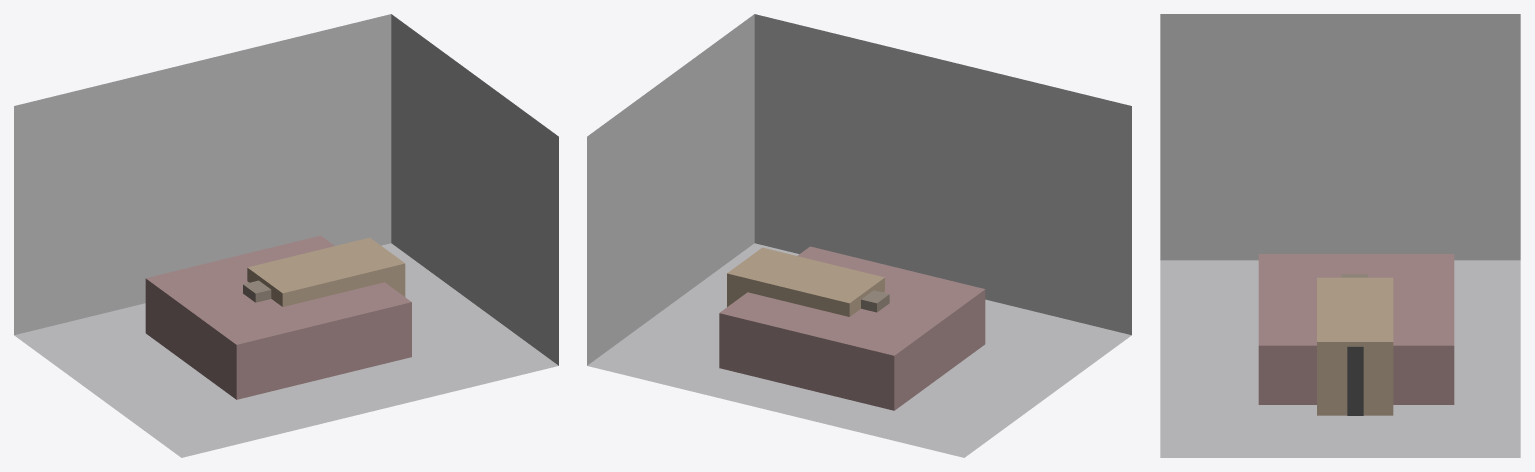
Rendered from current_layout.glb.
3 renders of one model, left to right at view 1: azimuth 30°, elevation 25°; view 2: azimuth 150°, elevation 25°; view 3: azimuth 270°, elevation 25°, orthographic. The views are drawn at different scales.
Visible parts, largest first — view 1: room, bed, desk; view 2: room, bed, desk; view 3: room, bed, desk, tv.
Boxes of the visible parts, <box> form: room: <box>14,14,558,457</box>; bed: <box>145,235,411,399</box>; desk: <box>247,237,405,306</box>; room: <box>587,14,1131,457</box>; bed: <box>719,246,985,410</box>; desk: <box>727,247,884,316</box>; room: <box>1160,14,1520,457</box>; bed: <box>1258,254,1454,404</box>; desk: <box>1317,277,1393,415</box>; tv: <box>1347,346,1363,415</box>.
Bounding box in the file's own units: 4.31 × 2.5 × 3.31.
